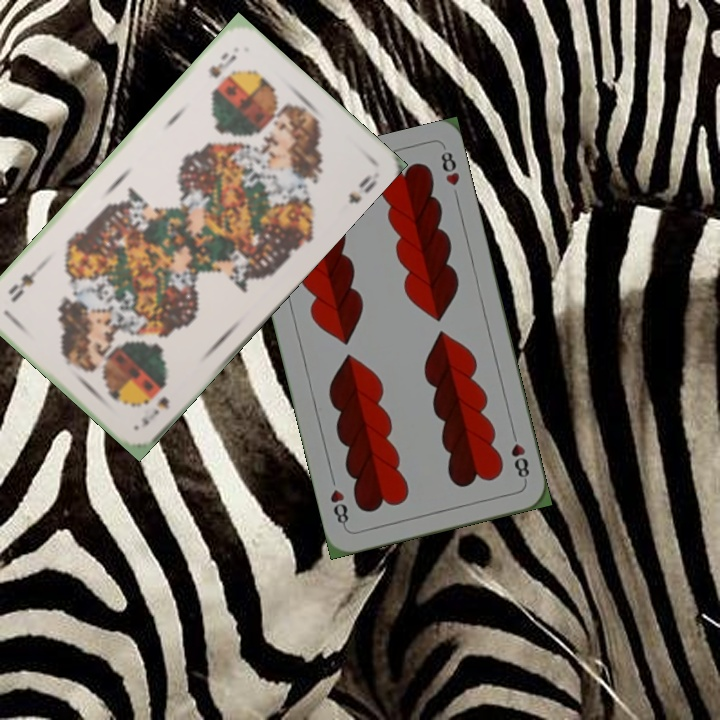H8: (507, 426, 532, 485)
SO: (137, 392, 173, 429), (204, 48, 239, 81)
